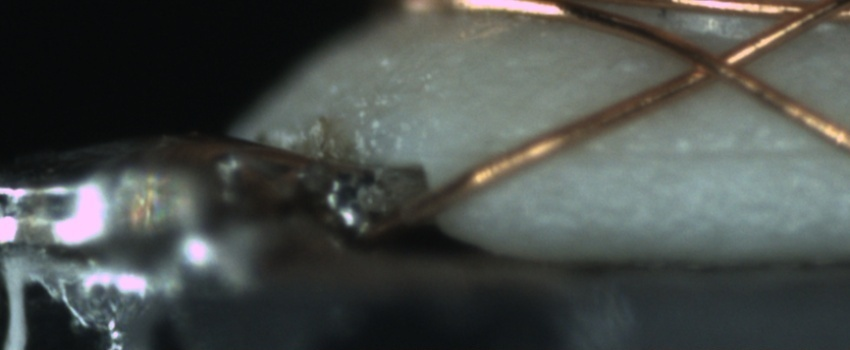CL: (673, 37, 761, 90)
DL: (567, 124, 839, 185)
